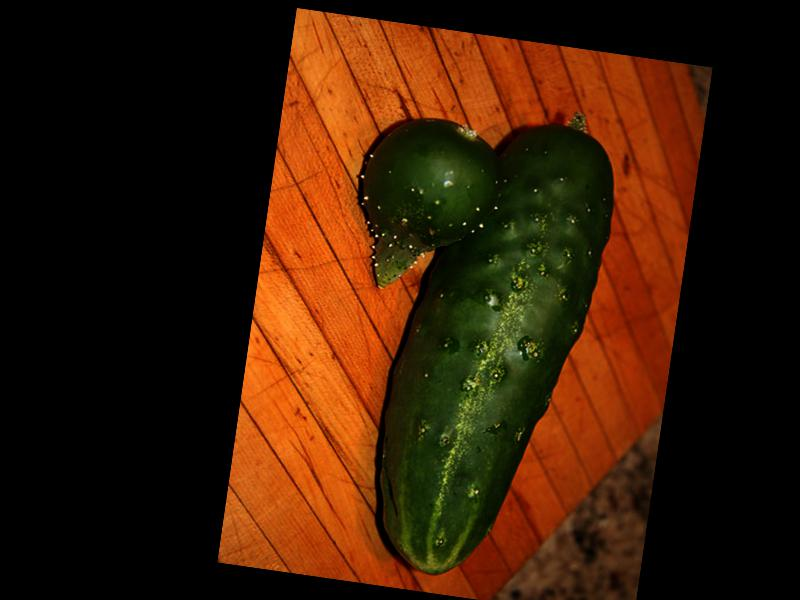Cucumber: (361, 105, 623, 593)
